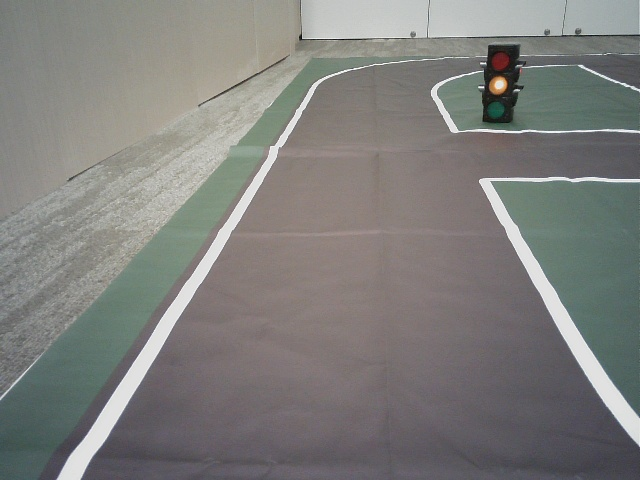yellow: (486, 46, 510, 116)
